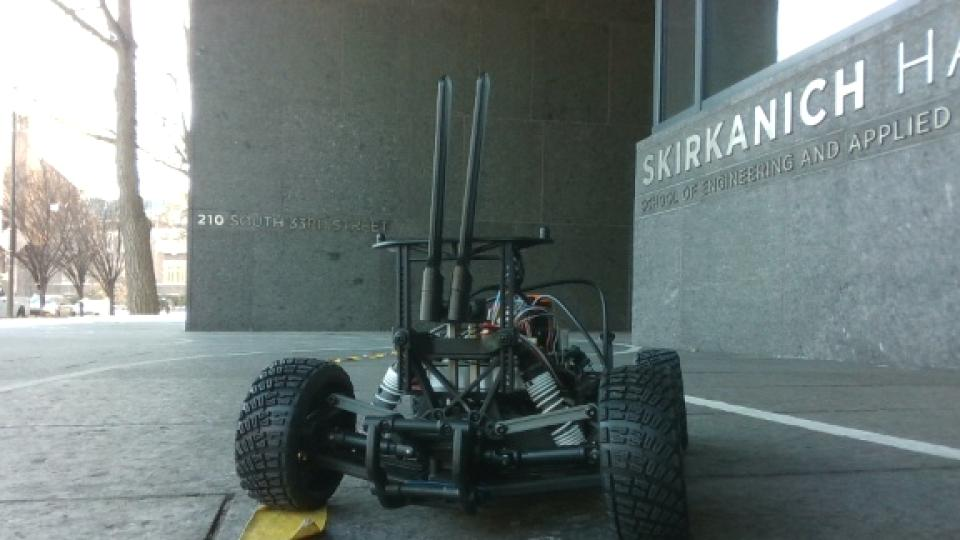car: (230, 68, 693, 540)
